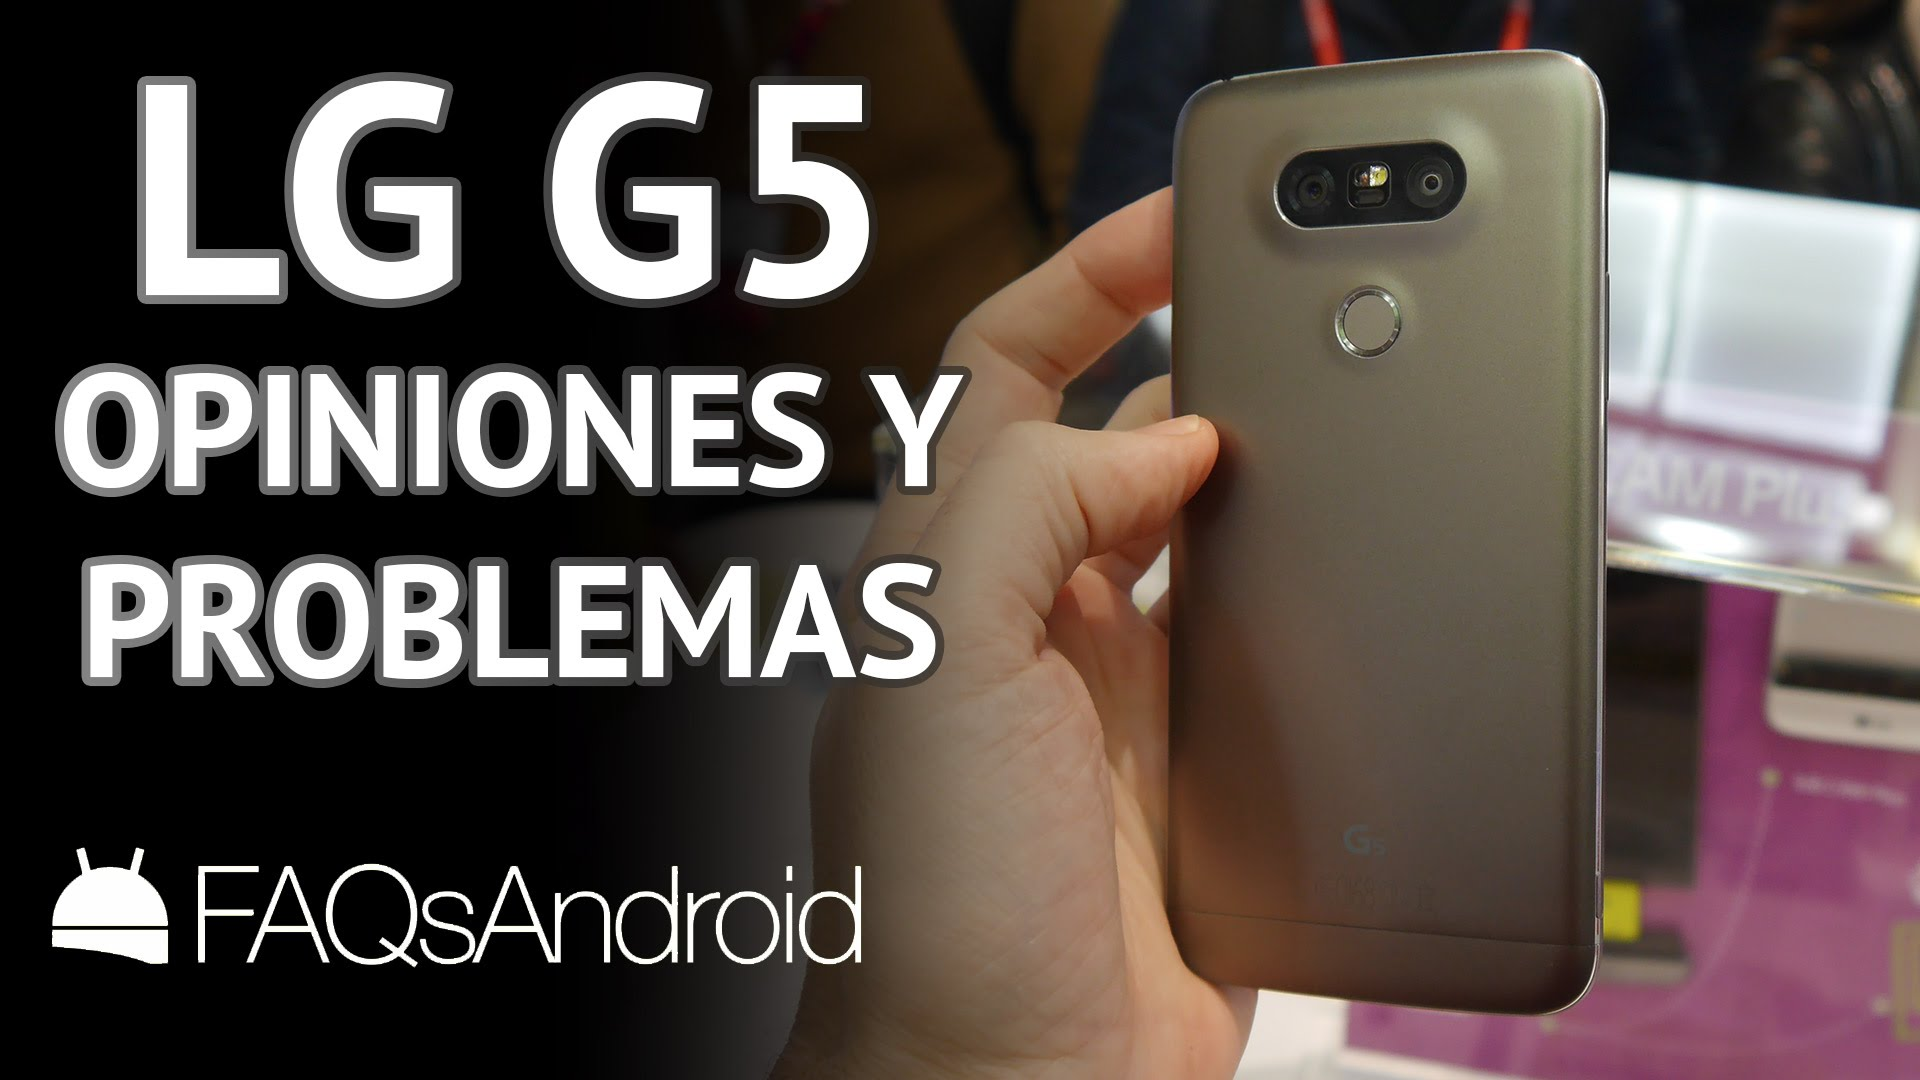smartphone: (1168, 47, 1615, 1015)
